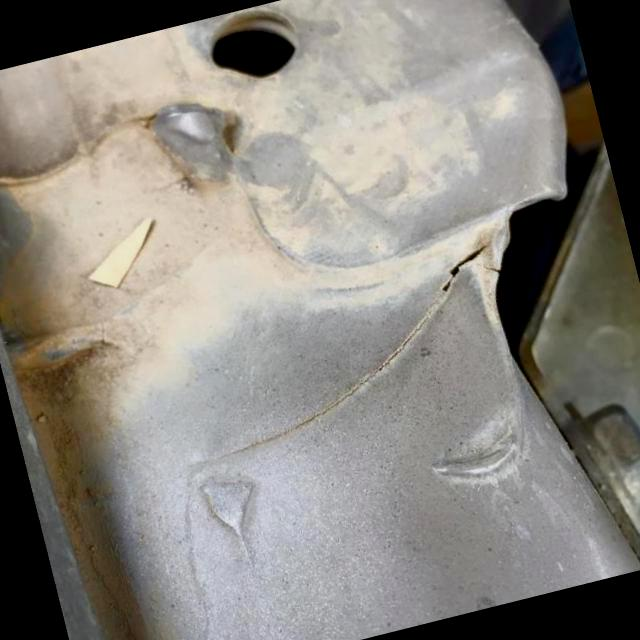defect: (173, 241, 492, 471), (480, 263, 500, 275)
